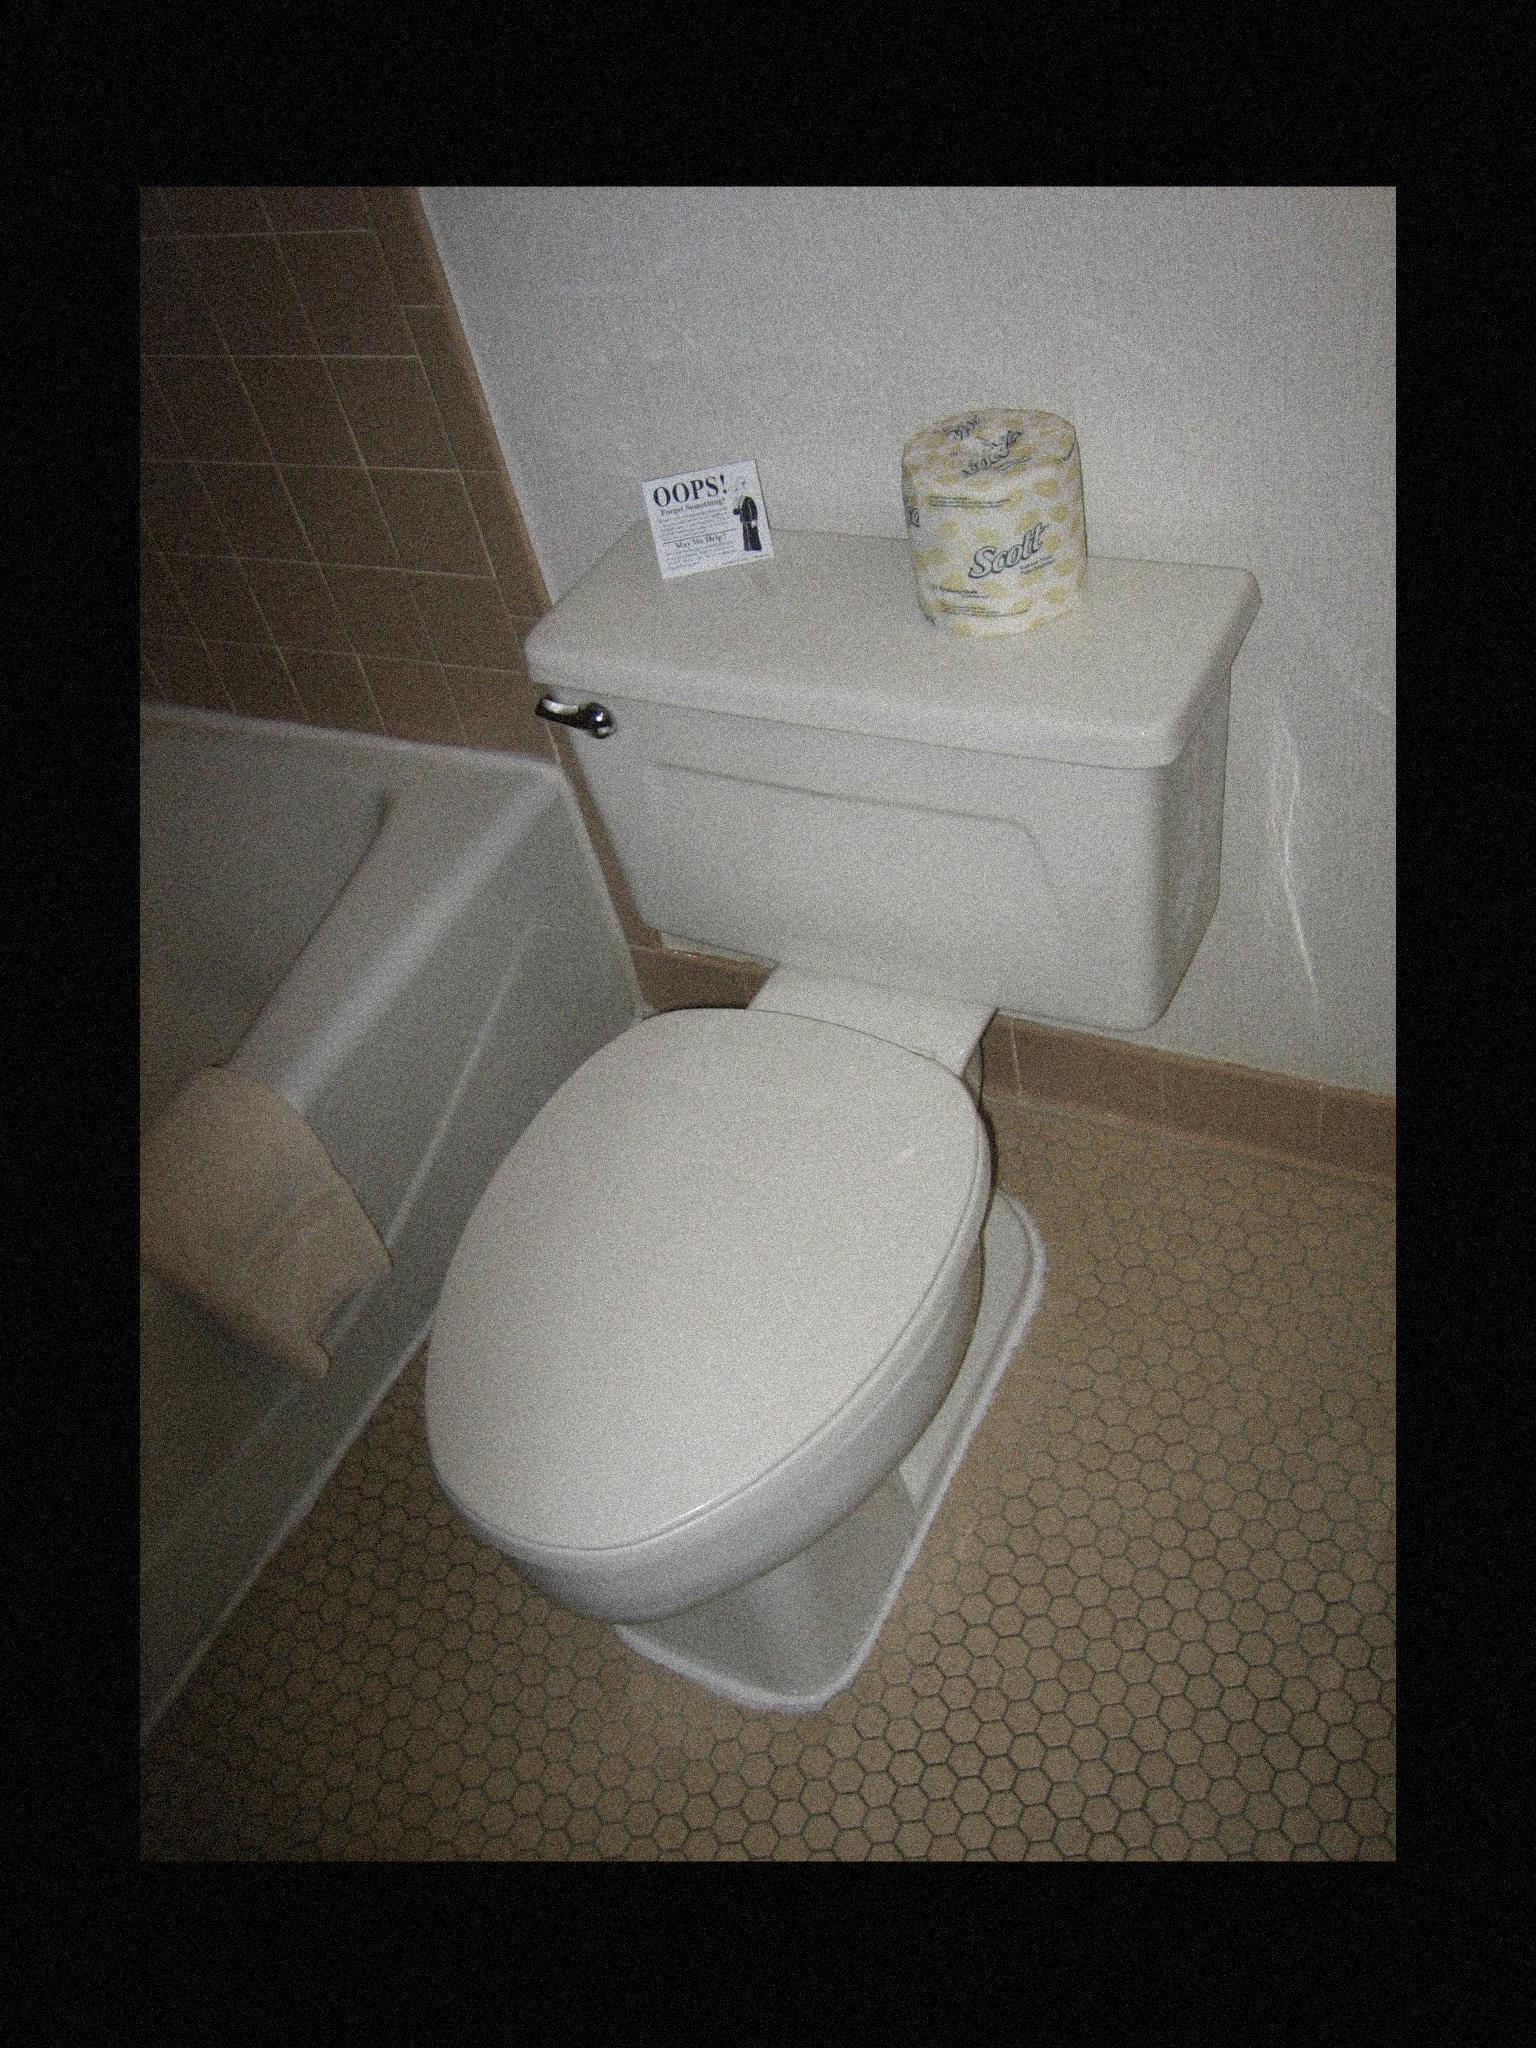Sanitario: (411, 550, 1304, 1722)
